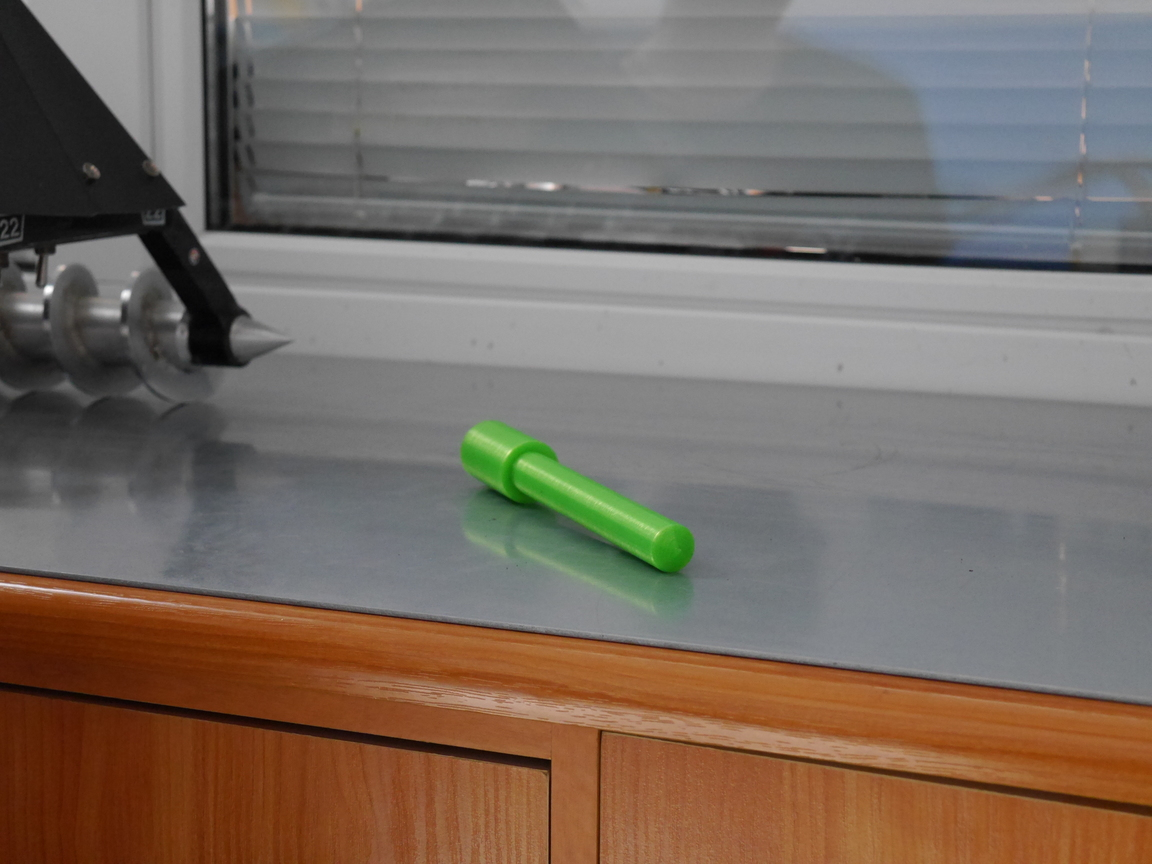cargo_g: (461, 421, 696, 573)
